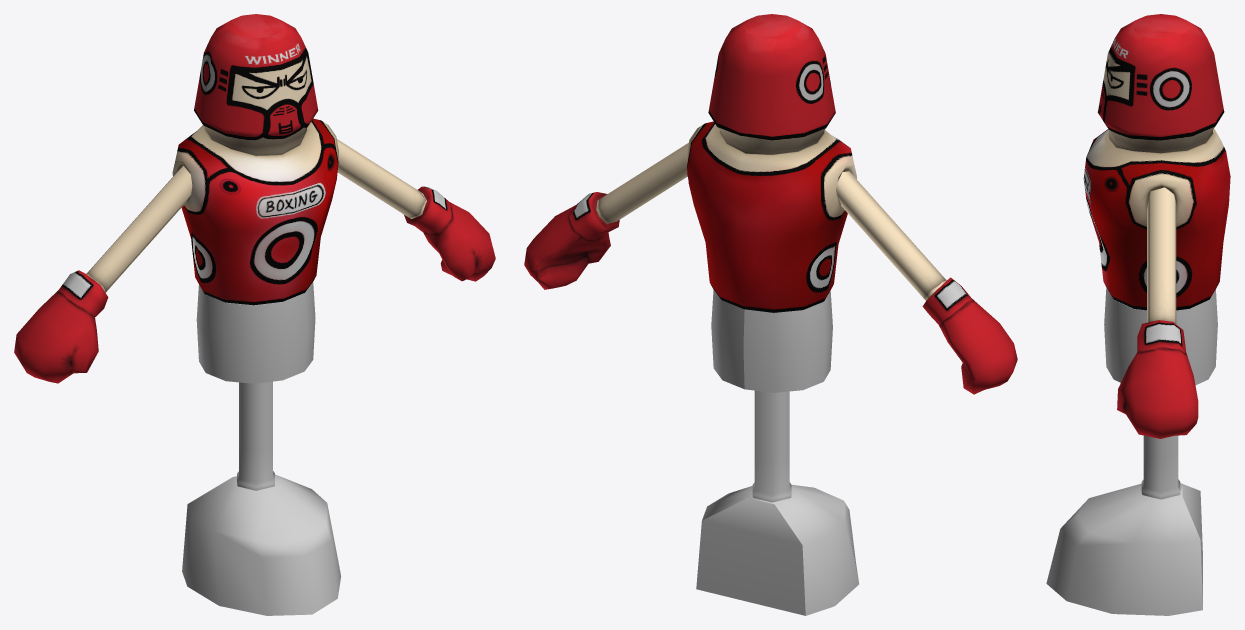
The model's file is Sandbag.FBX.
3 views of the same model, side by side, from view 1: azimuth 30°, elevation 25°; view 2: azimuth 150°, elevation 25°; view 3: azimuth 270°, elevation 25° (orthographic). The views are drawn at different scales.
Visible parts, largest first — view 1: Assets_M_skirt, Assets_M_body, Assets_M_head, Assets_M_handRGT, Assets_M_handLFT; view 2: Assets_M_skirt, Assets_M_body, Assets_M_head, Assets_M_handRGT, Assets_M_handLFT; view 3: Assets_M_skirt, Assets_M_body, Assets_M_head, Assets_M_handLFT.
Boxes of the visible parts, x1,y1,x2,y2 form: Assets_M_skirt: (182, 282, 341, 615); Assets_M_body: (172, 118, 338, 305); Assets_M_head: (194, 14, 318, 155); Assets_M_handRGT: (14, 166, 192, 383); Assets_M_handLFT: (337, 139, 495, 281); Assets_M_skirt: (696, 289, 859, 615); Assets_M_body: (686, 121, 857, 312); Assets_M_head: (708, 14, 835, 154); Assets_M_handRGT: (836, 171, 1017, 394); Assets_M_handLFT: (524, 143, 688, 289); Assets_M_skirt: (1046, 287, 1217, 615); Assets_M_body: (1083, 128, 1230, 310); Assets_M_head: (1097, 14, 1224, 153); Assets_M_handLFT: (1117, 187, 1198, 438).
Size of the model in its own units: 13.62 by 15.15 by 4.54.
